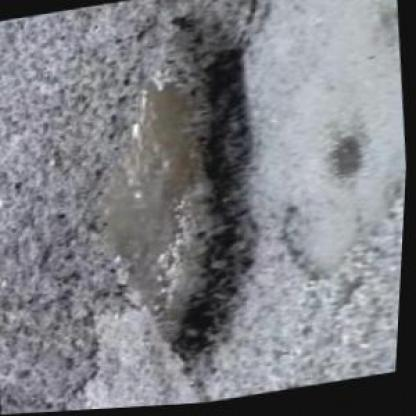pothole: (65, 0, 294, 395), (323, 131, 380, 188)
